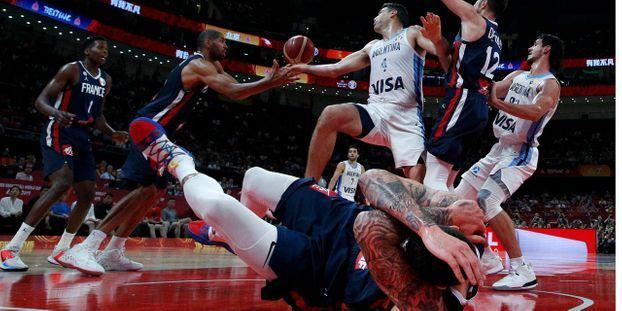basketball: (283, 33, 315, 66)
